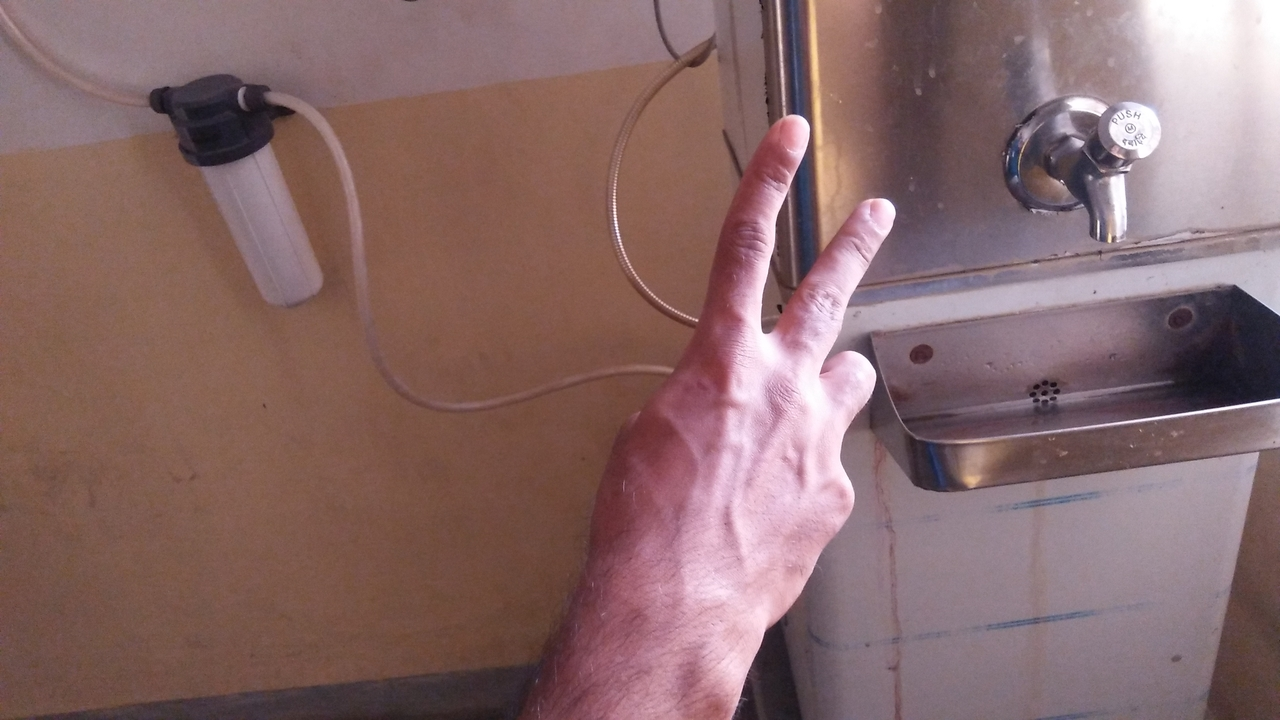fingertip: (842, 184, 908, 240), (758, 106, 820, 164)
